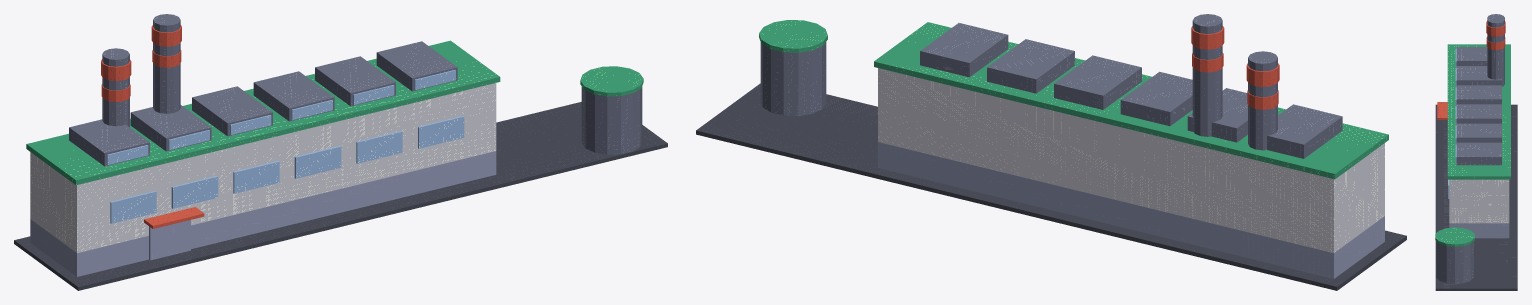
File: ind-5x1-l2.glb
The picture shows the model from 3 angles, left to right: view 1: azimuth 30°, elevation 25°; view 2: azimuth 150°, elevation 25°; view 3: azimuth 270°, elevation 25°; orthographic projection. The views are drawn at different scales.
Parts seen in each view (by area): view 1: ind-5x1-l2; view 2: ind-5x1-l2; view 3: ind-5x1-l2.
Part boxes in pixels (x1=…): ind-5x1-l2: x1=14, y1=14, x2=667, y2=290; ind-5x1-l2: x1=696, y1=14, x2=1406, y2=290; ind-5x1-l2: x1=1435, y1=14, x2=1517, y2=290.
Bounding box in the file's own units: 9.86 × 3.25 × 1.87.
1 material, 1 textured.
